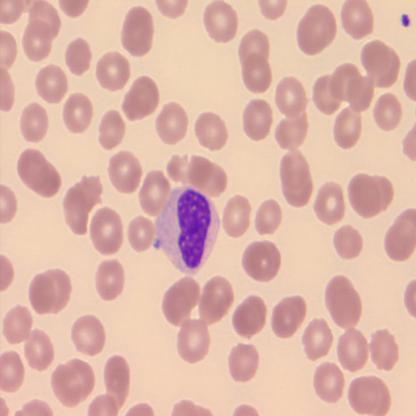Metamyelocyte: (154, 183, 222, 278)
